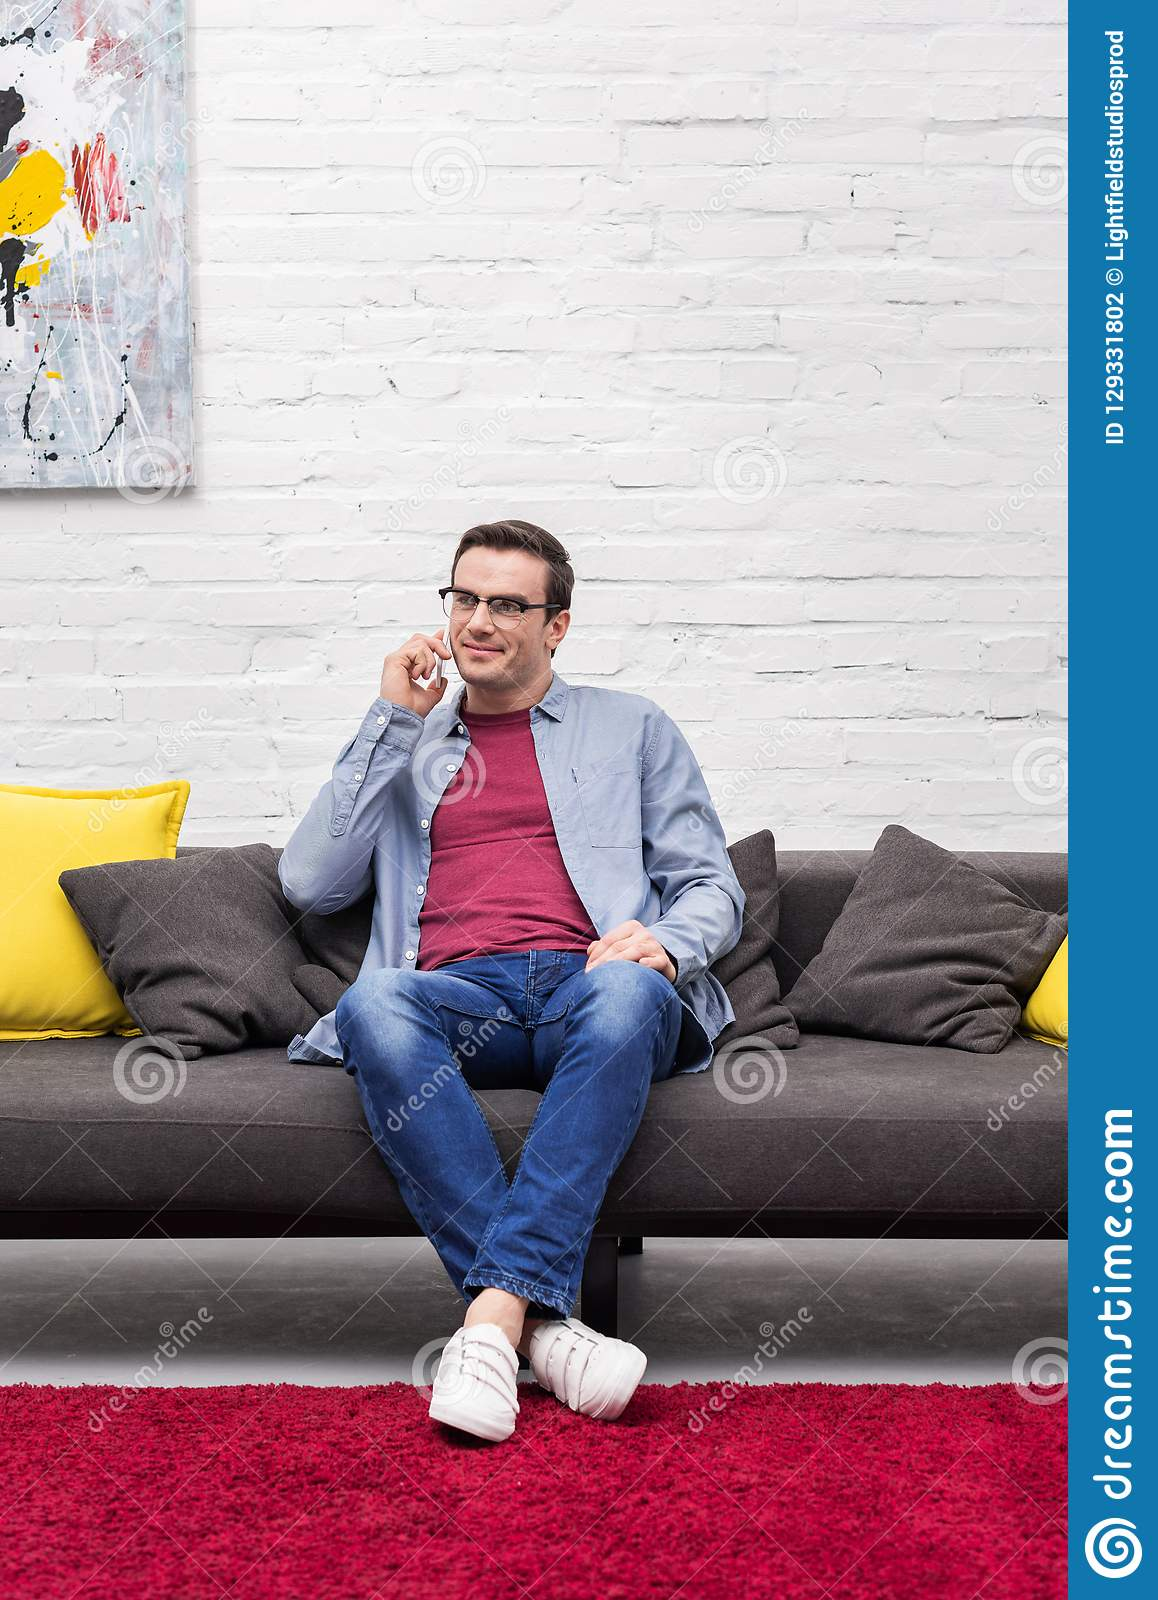phone: (435, 607, 455, 694)
talk: (384, 583, 536, 711)
